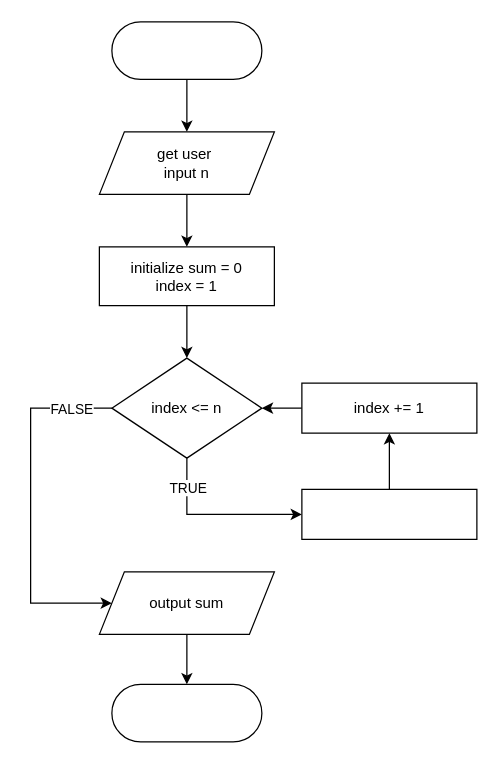
Some shapes in this 499 by 764 pixel diagram are drawn without their labels. The centre of each missing label's shape, as x and y in pixels:
END: point (186, 712)
START: point (186, 50)
sum = sum + index: point (389, 513)
